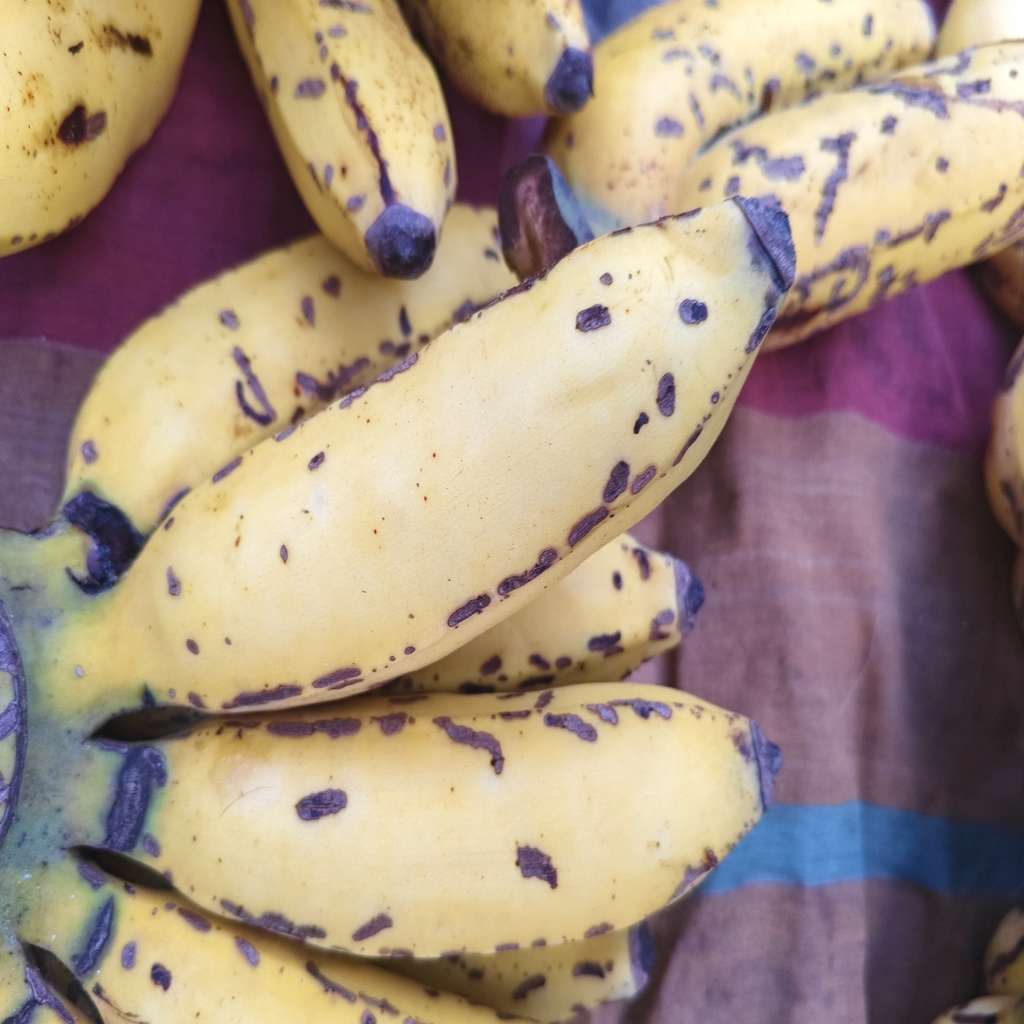unhealthy: (142, 198, 793, 713), (159, 681, 773, 963)
